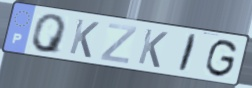G: (203, 38, 239, 79)
I: (176, 33, 200, 75)
K: (135, 27, 170, 70), (67, 17, 101, 60)
Q: (30, 13, 69, 56)
Z: (98, 22, 139, 66)
